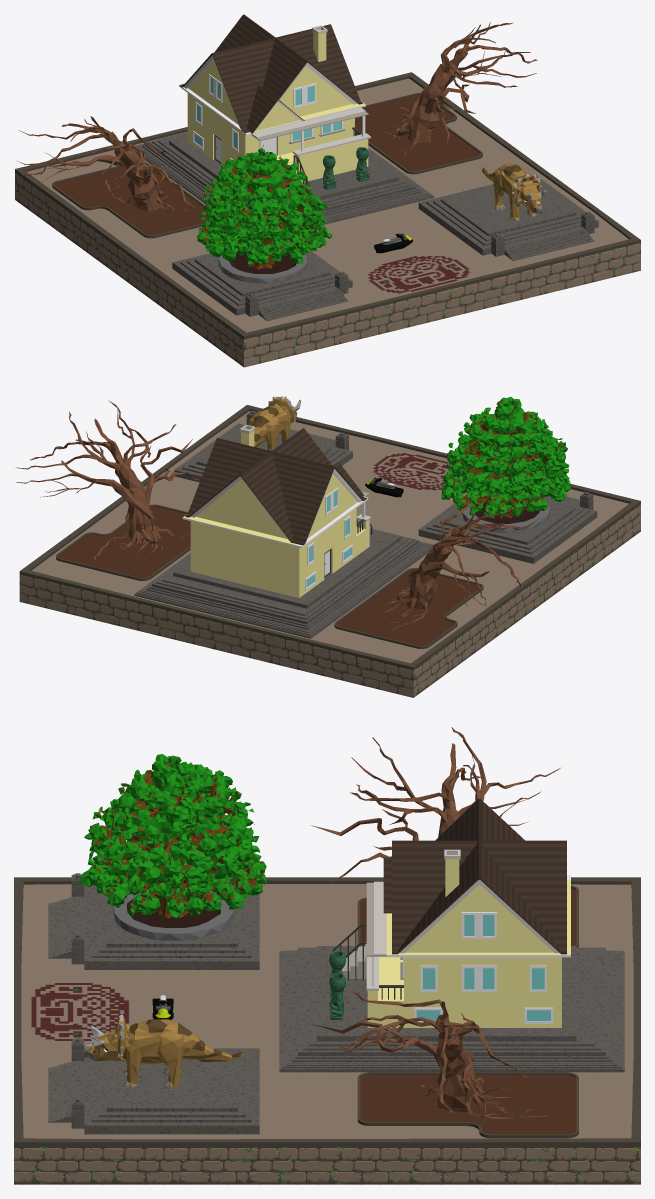
The picture shows the model from 3 angles, top to bottom: view 1: azimuth 30°, elevation 25°; view 2: azimuth 150°, elevation 25°; view 3: azimuth 270°, elevation 25°; orthographic projection. The views are drawn at different scales.
Visible parts, largest first — view 1: Cube.011, Cube.1555, OBJRANDOM_CEIBA, ANIMAL_Triceratops; view 2: Cube.011, Cube.1555, OBJRANDOM_CEIBA, ANIMAL_Triceratops, VEHICLES_WATERBIKE; view 3: Cube.011, Cube.1555, OBJRANDOM_CEIBA, ANIMAL_Triceratops.
Boxes of the visible parts, x1,y1,x2,y2 form: Cube.011: (15,22,640,367); Cube.1555: (179,14,370,186); OBJRANDOM_CEIBA: (197,147,332,283); ANIMAL_Triceratops: (482,163,546,220); Cube.011: (16,400,640,697); Cube.1555: (182,424,372,597); OBJRANDOM_CEIBA: (440,397,570,532); ANIMAL_Triceratops: (248,396,301,450); VEHICLES_WATERBIKE: (365,477,403,497); Cube.011: (14,727,640,1184); Cube.1555: (332,798,570,1027); OBJRANDOM_CEIBA: (78,754,266,940); ANIMAL_Triceratops: (83,1014,242,1088).
Size of the model in its own units: 5099 by 1658 by 4000.
Materials: 34 (5 with a texture image).
